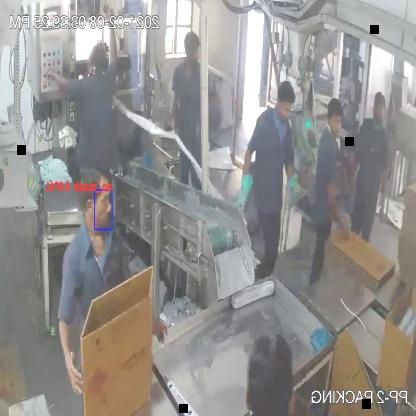glove: (230, 148, 258, 219), (283, 158, 307, 216)
no_glove: (52, 297, 92, 404), (320, 179, 361, 233), (371, 149, 389, 230)
